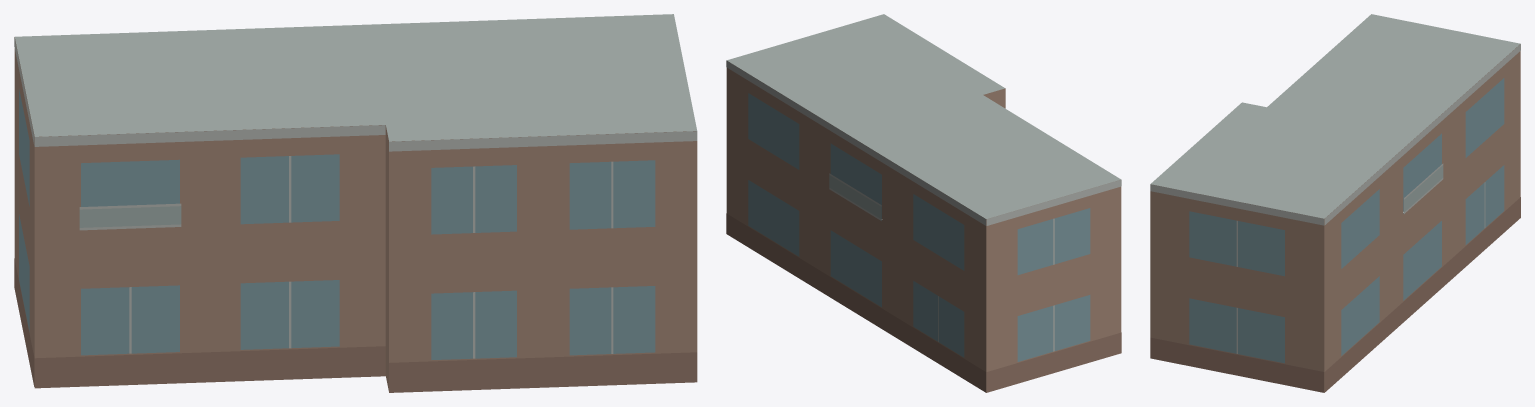
The model's file is survey-upis-32797880.glb.
The picture shows the model from 3 angles, left to right: view 1: azimuth 30°, elevation 25°; view 2: azimuth 150°, elevation 25°; view 3: azimuth 270°, elevation 25°; orthographic projection. The views are drawn at different scales.
Parts seen in each view (by area): view 1: survey-upis-32797880.tmp; view 2: survey-upis-32797880.tmp; view 3: survey-upis-32797880.tmp.
Part boxes in pixels (bbox=[...]): survey-upis-32797880.tmp: bbox=[14, 14, 697, 392]; survey-upis-32797880.tmp: bbox=[726, 14, 1121, 392]; survey-upis-32797880.tmp: bbox=[1150, 14, 1520, 392].
Bounding box in the file's own units: 15.39 × 6.1 × 11.77.
